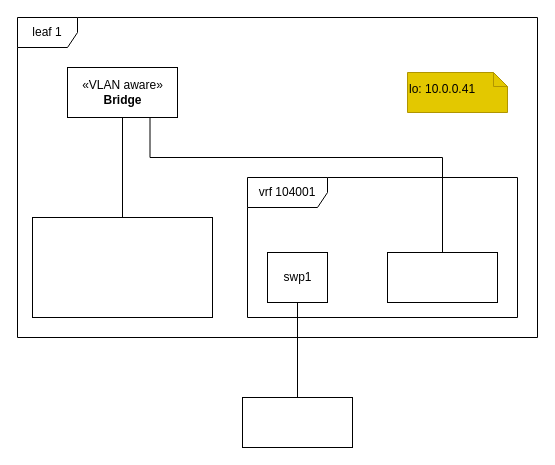
Some shapes in this 555 by 465 pixel diagram are drawn without their labels. The centre of each missing label's shape, as x and y in pixels:
Device 1: (297,422)
vni104001 VXLAN-Interface VTEP-Endpoint: 10.0.0.41: (122,267)
«SVI» vlan4001: (442,277)
